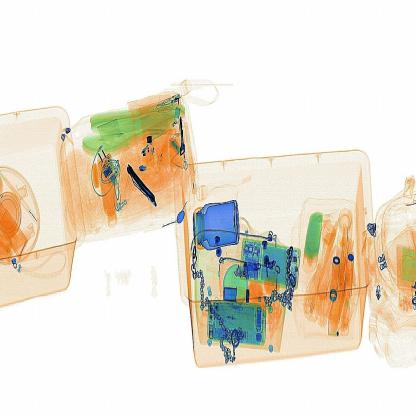knife: (123, 158, 165, 223)
